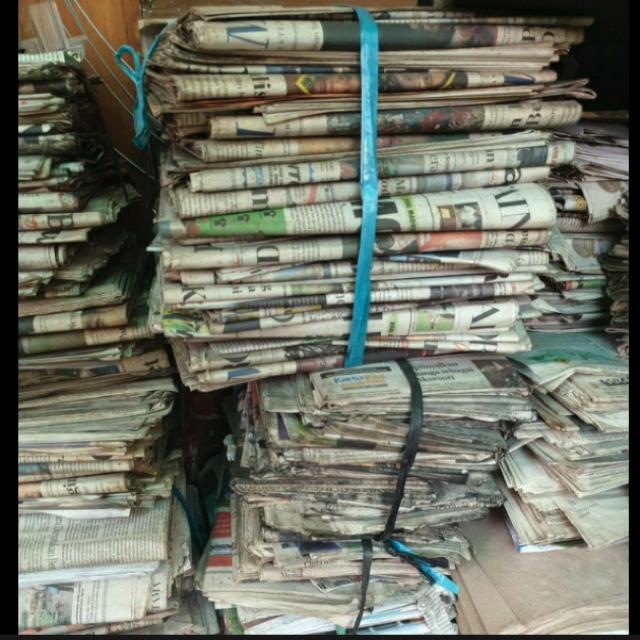Koran: (5, 0, 619, 634)
